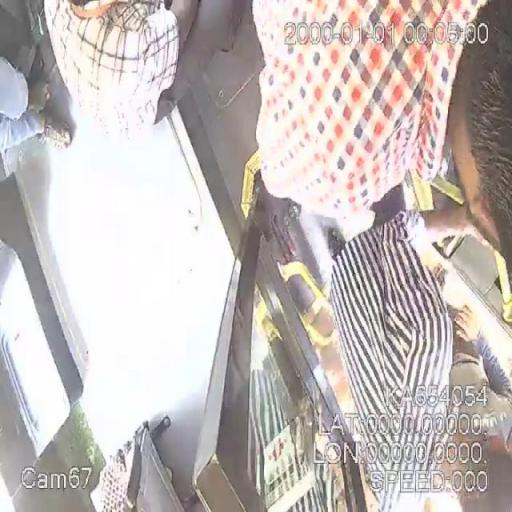persona: (249, 1, 512, 228), (318, 213, 511, 512), (50, 2, 247, 130)
